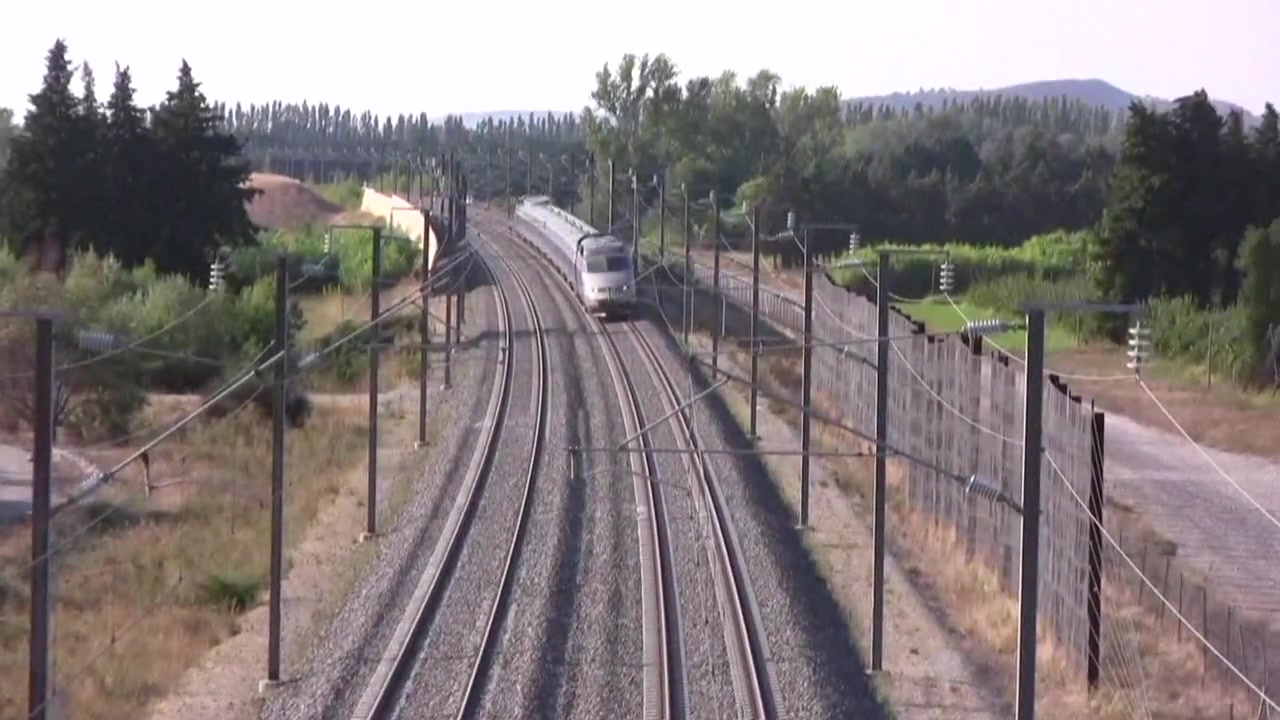train: (503, 190, 646, 321)
